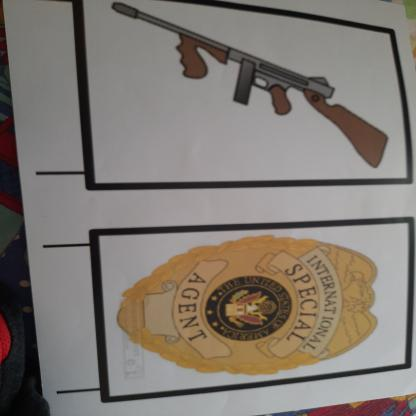Bootlegger: (102, 1, 400, 177)
G-man: (104, 226, 387, 377)
